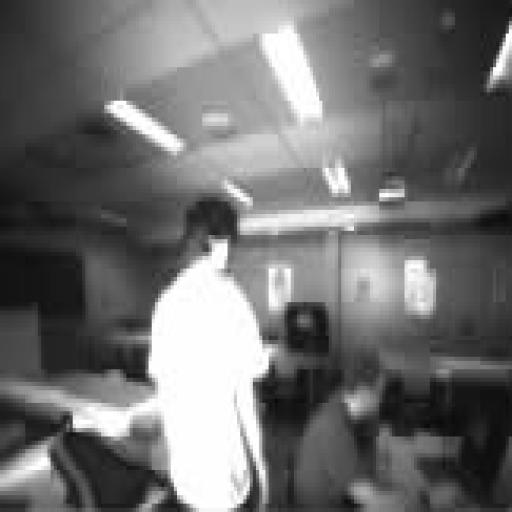human: (149, 198, 268, 511), (291, 349, 410, 511)
